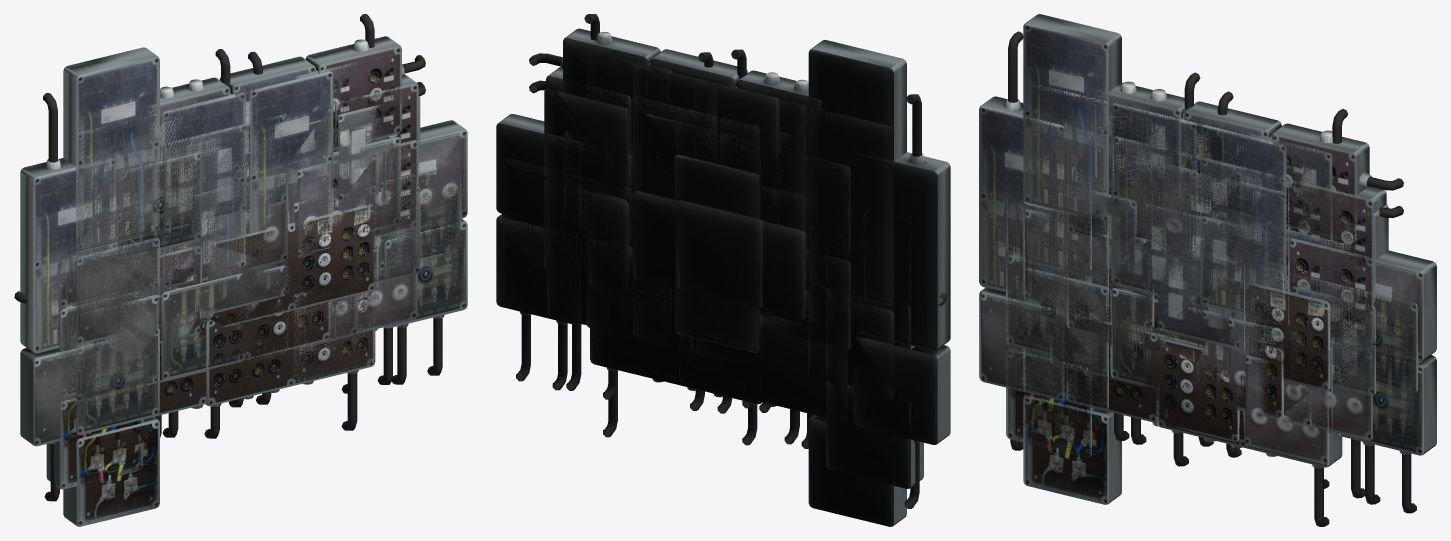
File: fuse_box_0008.fbx
The picture shows the model from 3 angles, left to right: view 1: azimuth 30°, elevation 25°; view 2: azimuth 150°, elevation 25°; view 3: azimuth 330°, elevation 25°; orthographic projection. The views are drawn at different scales.
Visible parts, largest first — view 1: fuse_box_0008_bundle_a, fuse_box_0008_bundle_i, fuse_box_0008_bundle_j, fuse_box_0008_bundle_e, fuse_box_0008_bundle_h, fuse_box_0008_bundle_d, fuse_box_0008_bundle_b, fuse_box_0008_bundle_g, fuse_box_0008_bundle_c, fuse_box_0008_bundle_f; view 2: fuse_box_0008_bundle_i, fuse_box_0008_bundle_a, fuse_box_0008_bundle_d, fuse_box_0008_bundle_j, fuse_box_0008_bundle_h, fuse_box_0008_bundle_c, fuse_box_0008_bundle_e, fuse_box_0008_bundle_g, fuse_box_0008_bundle_b, fuse_box_0008i, fuse_box_0008h, fuse_box_0008_bundle_f (+3 smaller); view 3: fuse_box_0008_bundle_a, fuse_box_0008_bundle_i, fuse_box_0008_bundle_j, fuse_box_0008_bundle_d, fuse_box_0008_bundle_e, fuse_box_0008_bundle_h, fuse_box_0008_bundle_c, fuse_box_0008_bundle_b, fuse_box_0008_bundle_f, fuse_box_0008_bundle_g.
Boxes of the visible parts, left/top/right/bottom form: fuse_box_0008_bundle_a: left=63, top=14, right=418, bottom=526; fuse_box_0008_bundle_i: left=20, top=93, right=461, bottom=501; fuse_box_0008_bundle_j: left=46, top=36, right=425, bottom=489; fuse_box_0008_bundle_e: left=161, top=71, right=333, bottom=437; fuse_box_0008_bundle_h: left=14, top=62, right=467, bottom=384; fuse_box_0008_bundle_d: left=76, top=113, right=418, bottom=437; fuse_box_0008_bundle_b: left=118, top=130, right=374, bottom=407; fuse_box_0008_bundle_g: left=118, top=49, right=376, bottom=438; fuse_box_0008_bundle_c: left=166, top=96, right=420, bottom=294; fuse_box_0008_bundle_f: left=102, top=86, right=357, bottom=437; fuse_box_0008_bundle_i: left=502, top=94, right=950, bottom=508; fuse_box_0008_bundle_a: left=546, top=14, right=906, bottom=526; fuse_box_0008_bundle_d: left=546, top=109, right=893, bottom=444; fuse_box_0008_bundle_j: left=529, top=28, right=923, bottom=488; fuse_box_0008_bundle_h: left=496, top=51, right=946, bottom=390; fuse_box_0008_bundle_c: left=544, top=89, right=797, bottom=374; fuse_box_0008_bundle_e: left=632, top=64, right=807, bottom=444; fuse_box_0008_bundle_g: left=590, top=49, right=851, bottom=445; fuse_box_0008_bundle_b: left=589, top=121, right=850, bottom=413; fuse_box_0008i: left=633, top=147, right=805, bottom=367; fuse_box_0008h: left=674, top=90, right=759, bottom=410; fuse_box_0008_bundle_f: left=573, top=78, right=866, bottom=448; fuse_box_0008_bundle_a: left=1023, top=14, right=1386, bottom=504; fuse_box_0008_bundle_i: left=979, top=31, right=1422, bottom=464; fuse_box_0008_bundle_j: left=1006, top=81, right=1403, bottom=457; fuse_box_0008_bundle_d: left=1024, top=82, right=1373, bottom=498; fuse_box_0008_bundle_e: left=1110, top=103, right=1286, bottom=444; fuse_box_0008_bundle_h: left=1148, top=133, right=1436, bottom=513; fuse_box_0008_bundle_c: left=1112, top=151, right=1388, bottom=395; fuse_box_0008_bundle_b: left=1066, top=143, right=1330, bottom=446; fuse_box_0008_bundle_f: left=1050, top=111, right=1311, bottom=440; fuse_box_0008_bundle_g: left=1065, top=72, right=1342, bottom=526.
Bounding box in the file's own units: 144 × 141 × 7.26.
